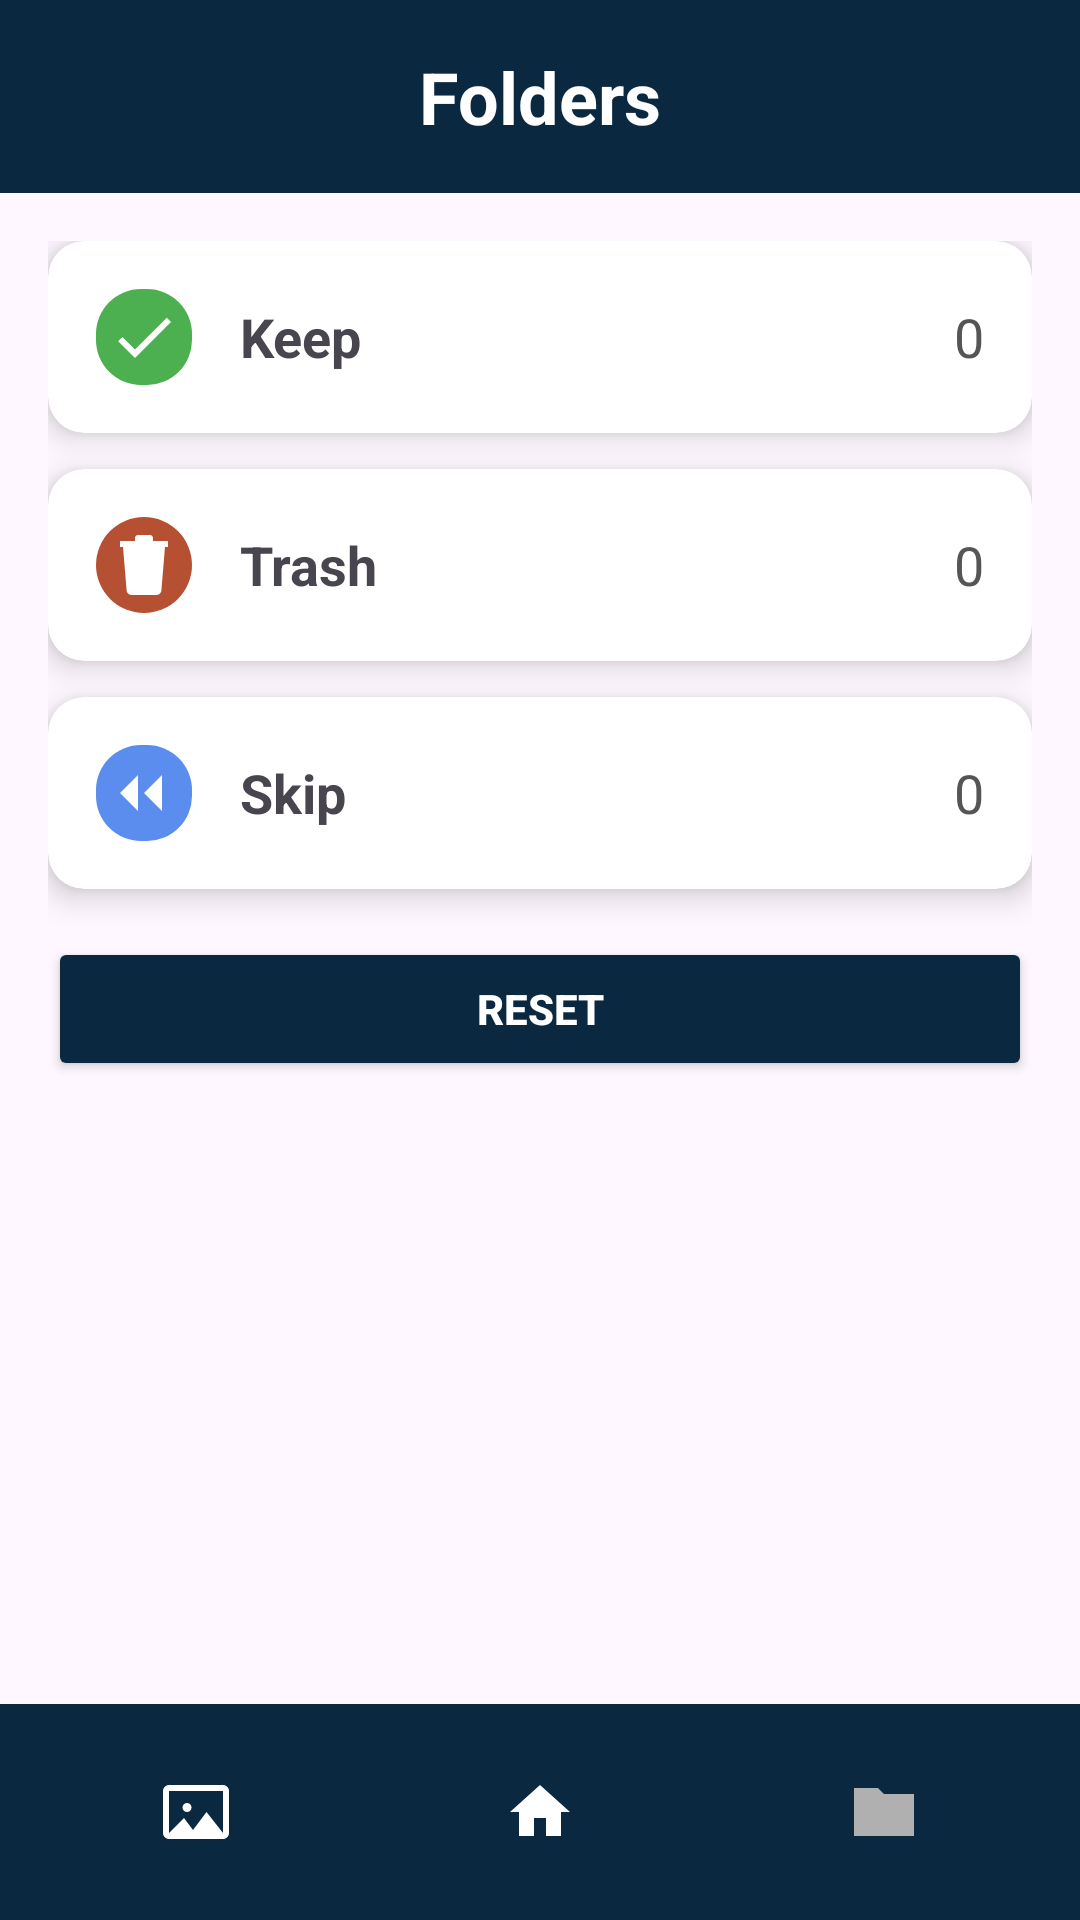

Named icons in this screenshot (1080px×1920px) and their centers, (x=x, y=y):
Go to Home: (x=540, y=1810)
Open Gallery: (x=196, y=1812)
